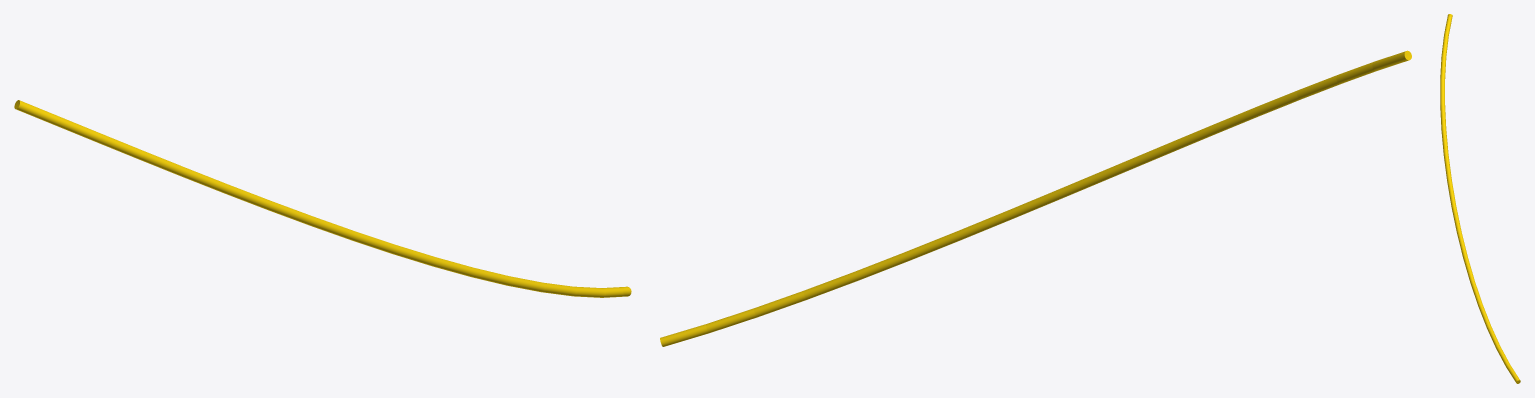
The model's file is Event_421364160_track_5.fbx.
3 renders of one model, left to right at view 1: azimuth 30°, elevation 25°; view 2: azimuth 150°, elevation 25°; view 3: azimuth 270°, elevation 25°, orthographic. The views are drawn at different scales.
Visible parts, largest first — view 1: Model; view 2: Model; view 3: Model.
Boxes of the visible parts, x1,y1,x2,y2 form: Model: [14, 100, 631, 297]; Model: [660, 50, 1411, 346]; Model: [1440, 14, 1520, 383].
Bounding box in the file's own units: 3.21 × 1.84 × 0.6566.
